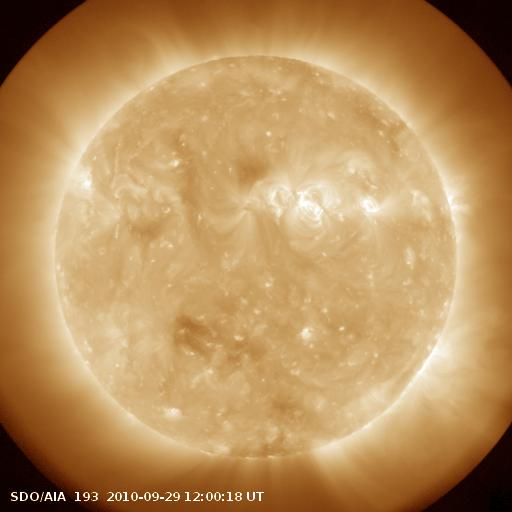coronal_hole: (167, 310, 227, 365)
